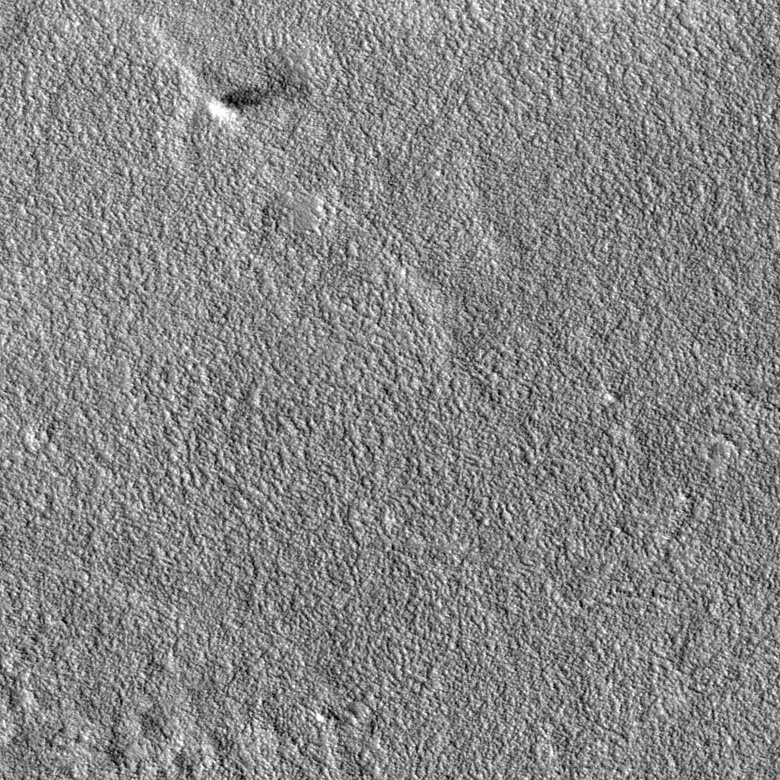dust_devil: (204, 71, 314, 130)
